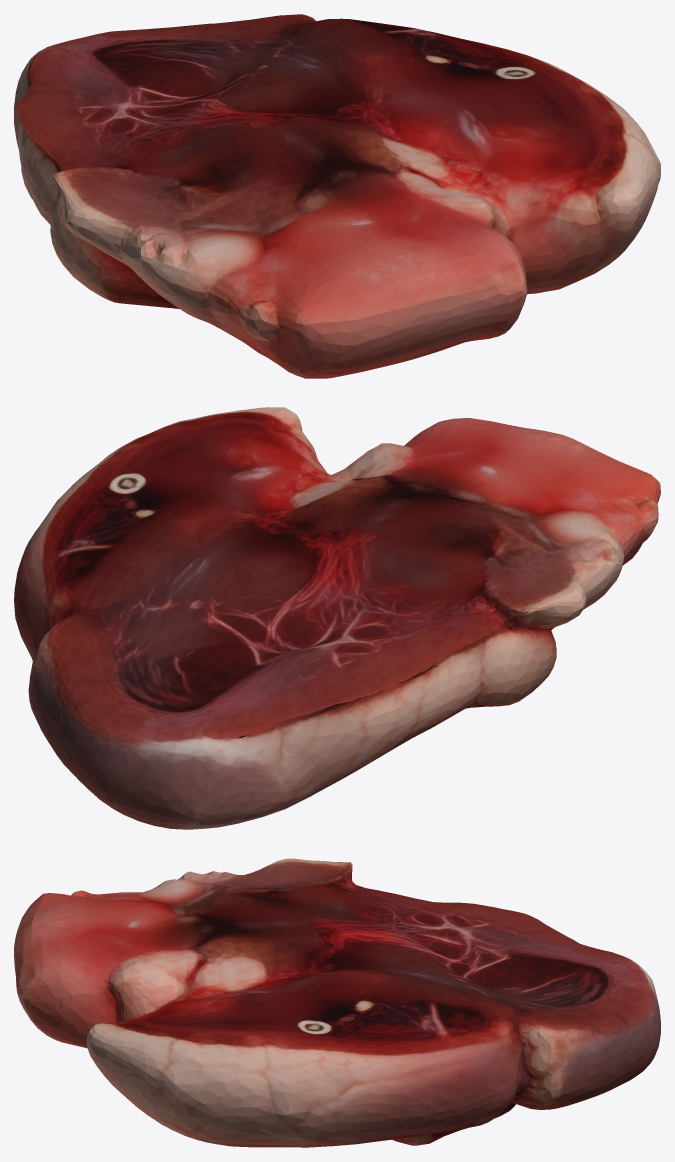
File: heart.glb
The picture shows the model from 3 angles, top to bottom: view 1: azimuth 30°, elevation 25°; view 2: azimuth 150°, elevation 25°; view 3: azimuth 270°, elevation 25°; orthographic projection. The views are drawn at different scales.
Parts seen in each view (by area): view 1: world; view 2: world; view 3: world.
Part boxes in pixels (x1,y1,x2,y2): world: (14,14,660,378); world: (14,407,660,829); world: (14,858,660,1147).
Size of the model in its own units: 0.7825 by 0.2807 by 0.9976.
Materials: 1 (1 with a texture image).
